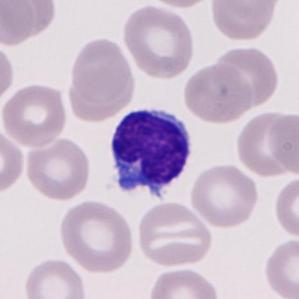Lymphocyte: (103, 102, 197, 206)
RBC: (56, 198, 138, 274), (120, 2, 197, 82), (135, 199, 214, 269), (187, 160, 260, 230), (210, 43, 282, 111), (0, 81, 70, 149), (181, 61, 254, 125), (64, 63, 138, 126), (68, 36, 135, 105), (23, 135, 92, 202), (208, 0, 282, 43), (21, 256, 89, 299), (146, 264, 223, 299), (261, 235, 298, 299), (265, 111, 298, 177), (0, 128, 27, 197), (272, 173, 298, 240), (0, 0, 36, 47), (0, 42, 15, 104), (143, 0, 218, 10)
